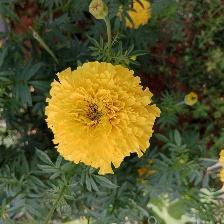marigold: (43, 60, 162, 177), (119, 1, 155, 33)
